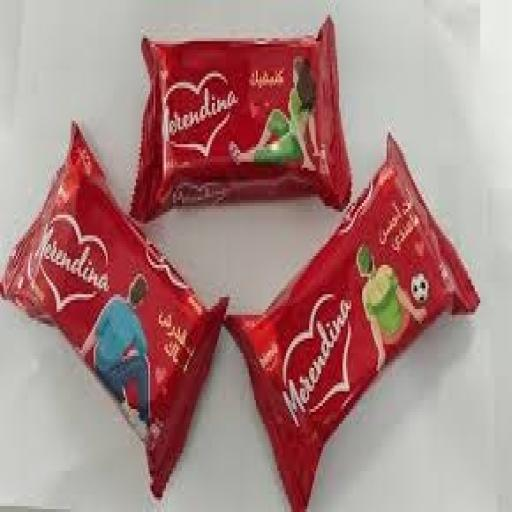merendina: (238, 214, 502, 490), (1, 219, 208, 491), (132, 16, 355, 212)
